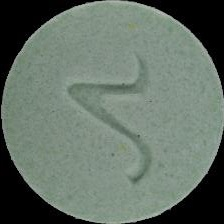43063-647: (0, 0, 224, 224)
